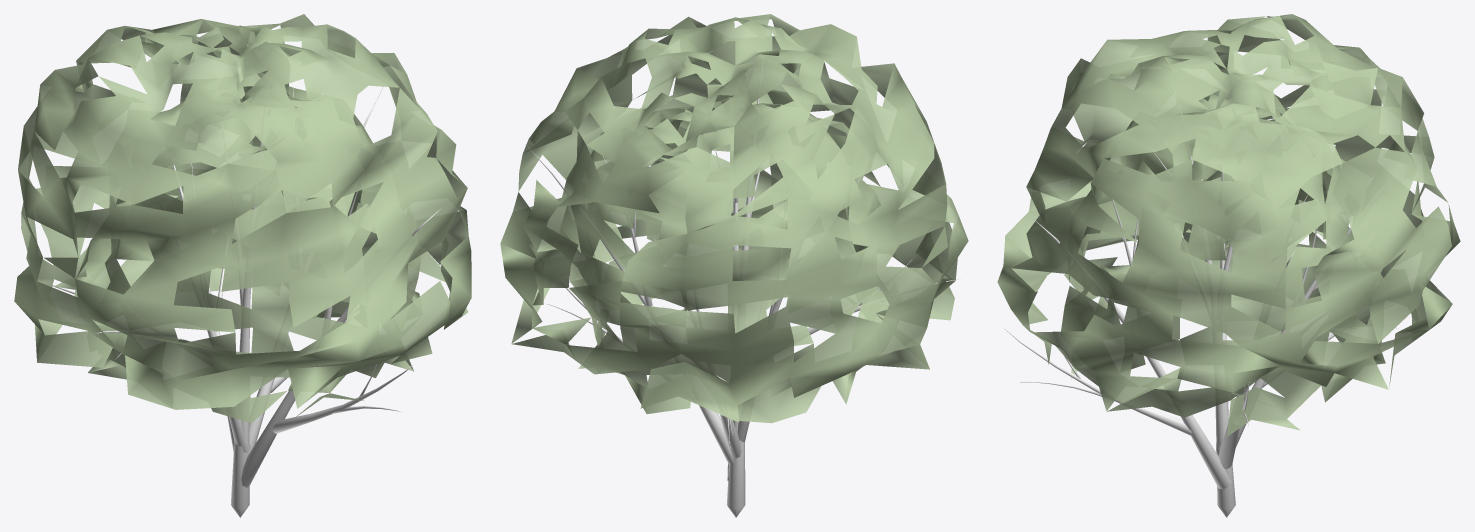
Rendered from tree_lowpoly.dae.
3 renders of one model, left to right at view 1: azimuth 30°, elevation 25°; view 2: azimuth 150°, elevation 25°; view 3: azimuth 270°, elevation 25°, orthographic. The views are drawn at different scales.
Parts seen in each view (by area): view 1: Leaves (×2), branch (×4); view 2: Leaves (×2), branch (×2); view 3: Leaves (×2), branch (×4).
Boxes of the visible parts, x1,y1,x2,y2 form: Leaves (×2): [14, 14, 471, 423]; branch (×4): [230, 87, 440, 517]; Leaves (×2): [500, 14, 968, 423]; branch (×2): [525, 66, 762, 517]; Leaves (×2): [997, 14, 1460, 436]; branch (×4): [1005, 114, 1294, 517].
Bounding box in the file's own units: 195 × 198 × 221.
